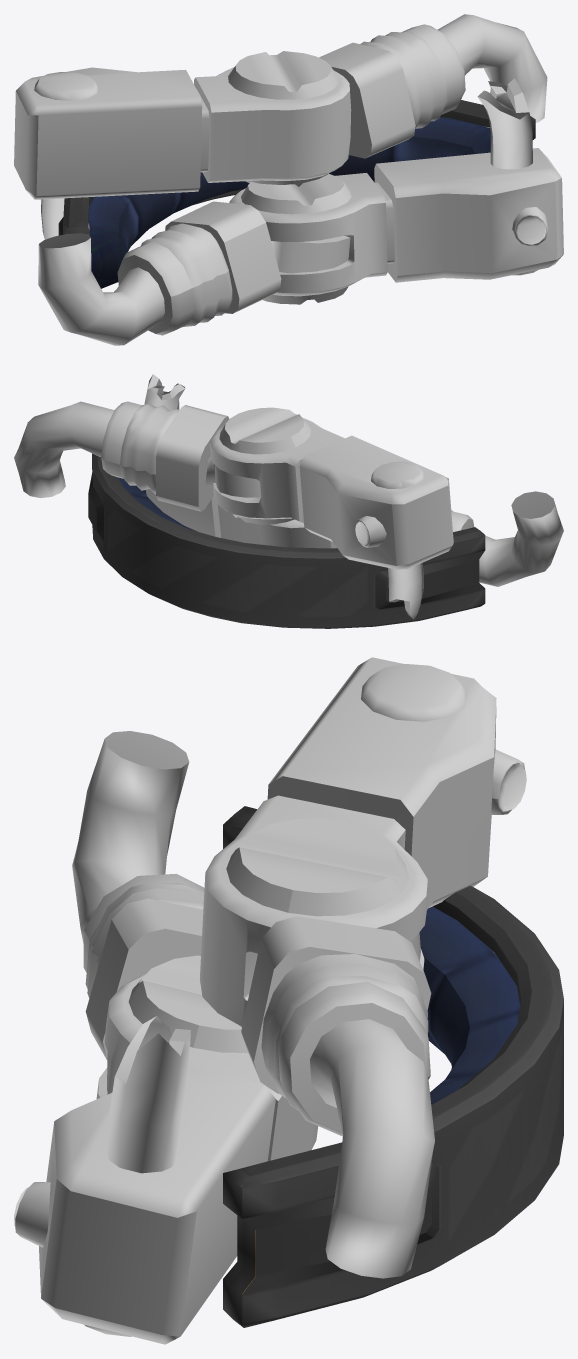
File: exopantsobject.fbx
3 views of the same model, one above another, from view 1: azimuth 30°, elevation 25°; view 2: azimuth 150°, elevation 25°; view 3: azimuth 270°, elevation 25° (orthographic). The views are drawn at different scales.
Parts seen in each view (by area): view 1: OutfitProps_2FBXASC058obj_robotpart_totebot_leg01.001; view 2: OutfitProps_2FBXASC058obj_robotpart_totebot_leg01.001; view 3: OutfitProps_2FBXASC058obj_robotpart_totebot_leg01.001.
Boxes of the visible parts, x1,y1,x2,y2 form: OutfitProps_2FBXASC058obj_robotpart_totebot_leg01.001: [14, 14, 563, 345]; OutfitProps_2FBXASC058obj_robotpart_totebot_leg01.001: [14, 374, 563, 628]; OutfitProps_2FBXASC058obj_robotpart_totebot_leg01.001: [14, 657, 563, 1344].
Bounding box in the file's own units: 1.09 × 2.18 × 0.7633.
